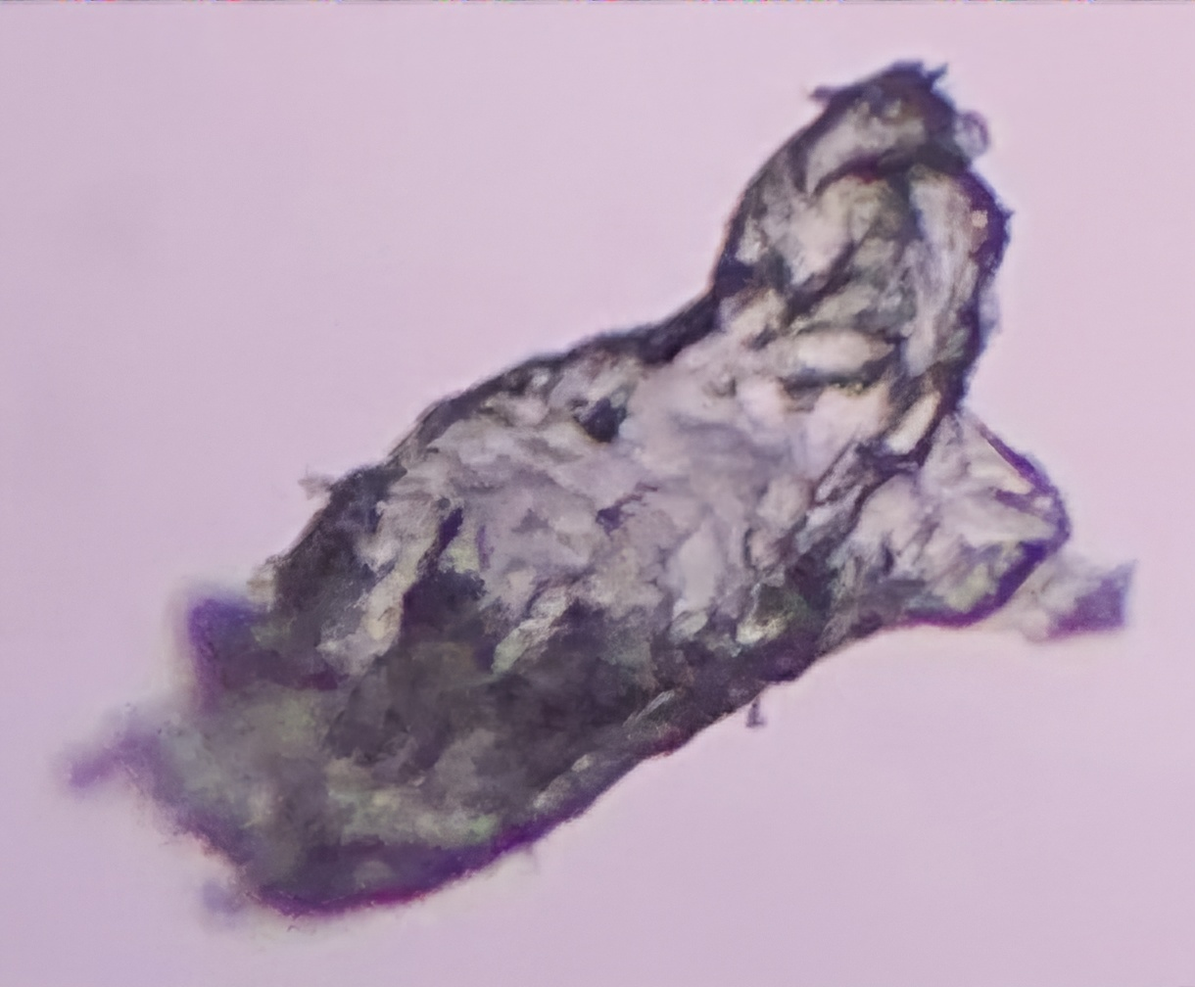microplastic: (51, 64, 1148, 944)
